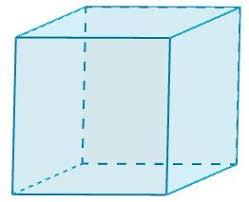cubos: (2, 2, 247, 200)
